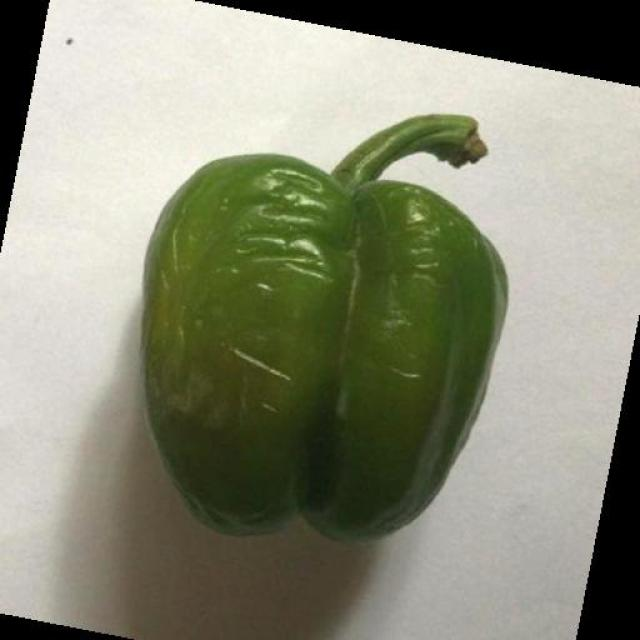Stale_Capsicum: (142, 96, 496, 555)
